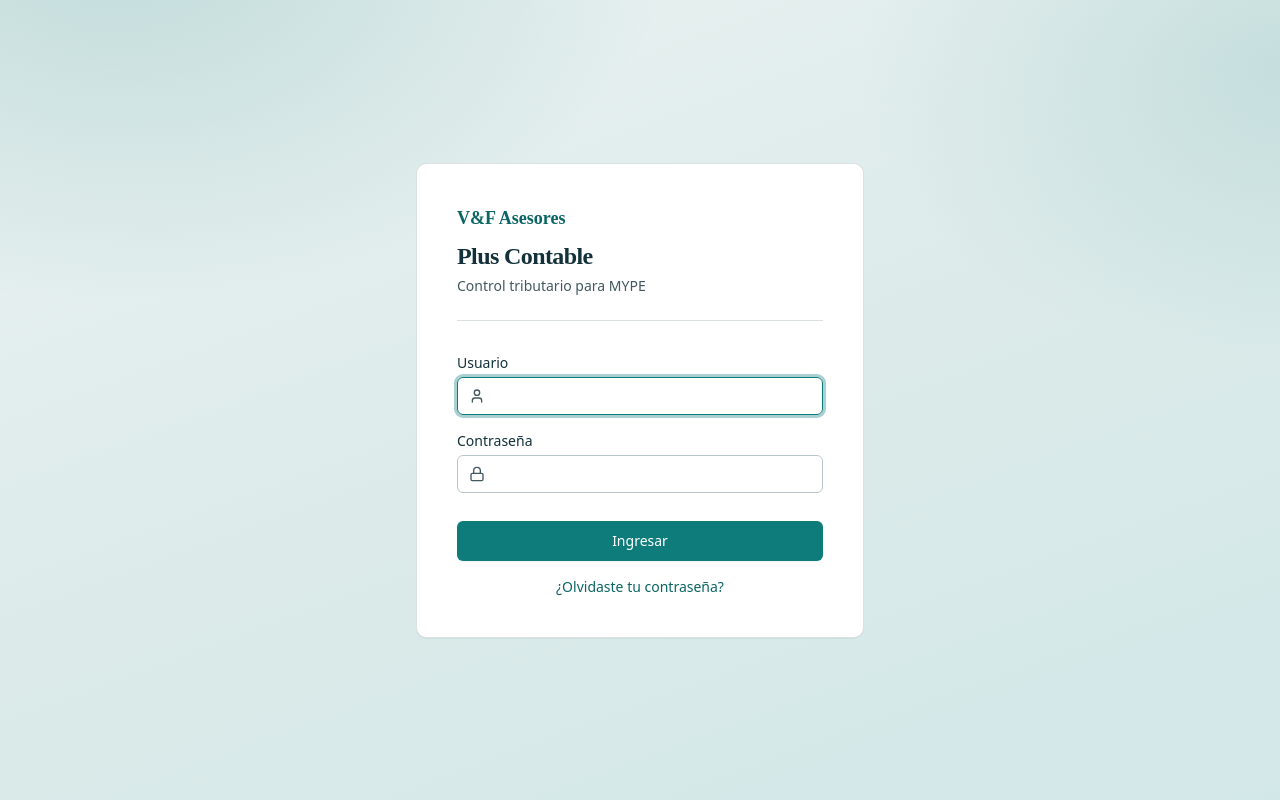
Test: HU-36: sesión y login › muestra el error de credenciales incorrectas sin guardar sesión
Step 1. Type "prueba" into the field labelled "Usuario" → (640, 396), box [457, 376, 823, 414]
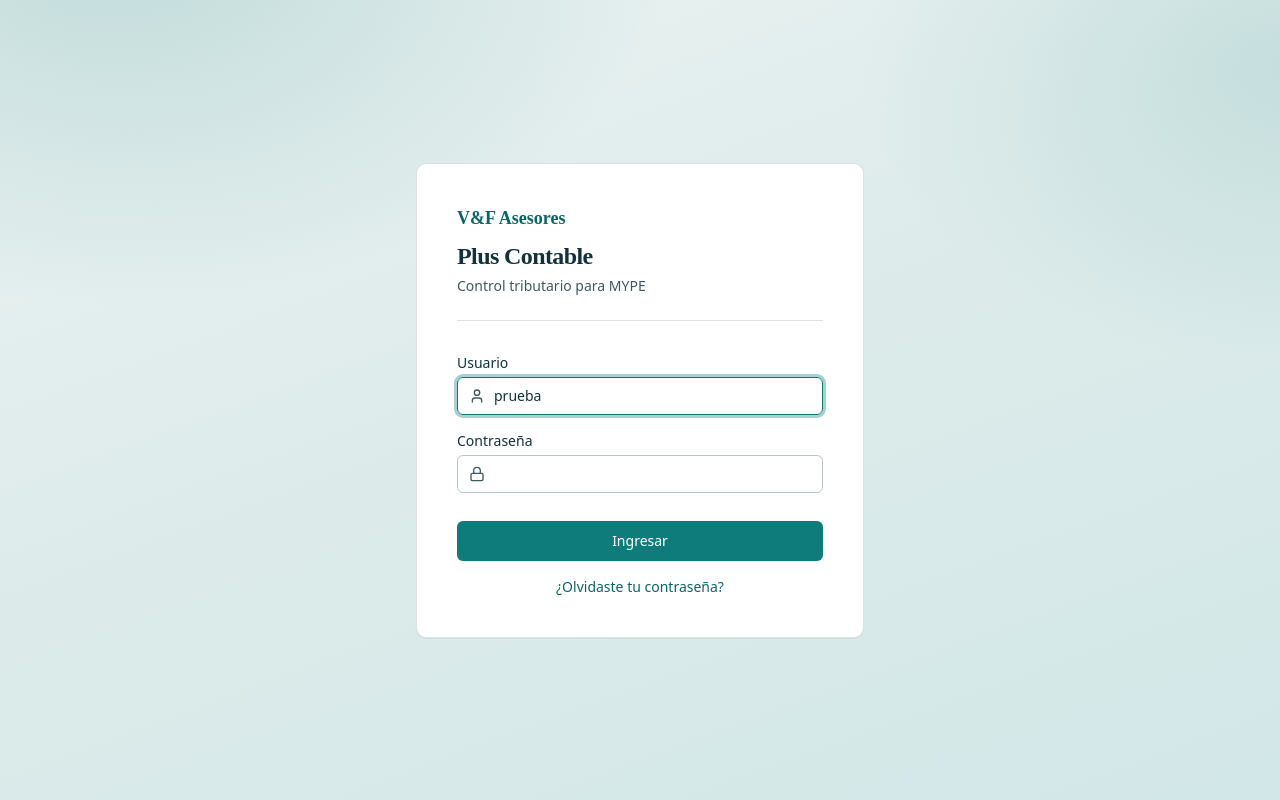
Step 2. Type "incorrecta" into the password field labelled "Contraseña" → (640, 474), box [457, 454, 823, 492]
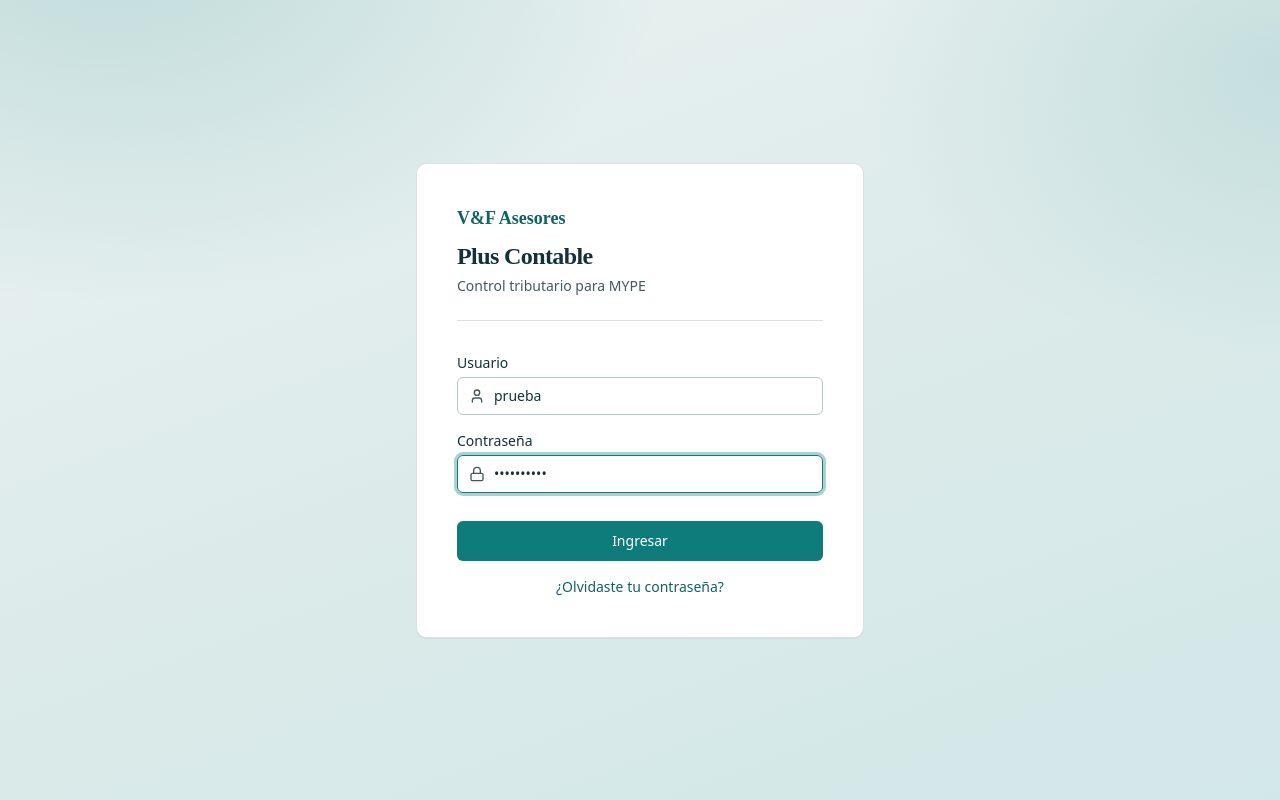
Step 3. Click the button "Ingresar" → (640, 540), box [457, 520, 823, 560]
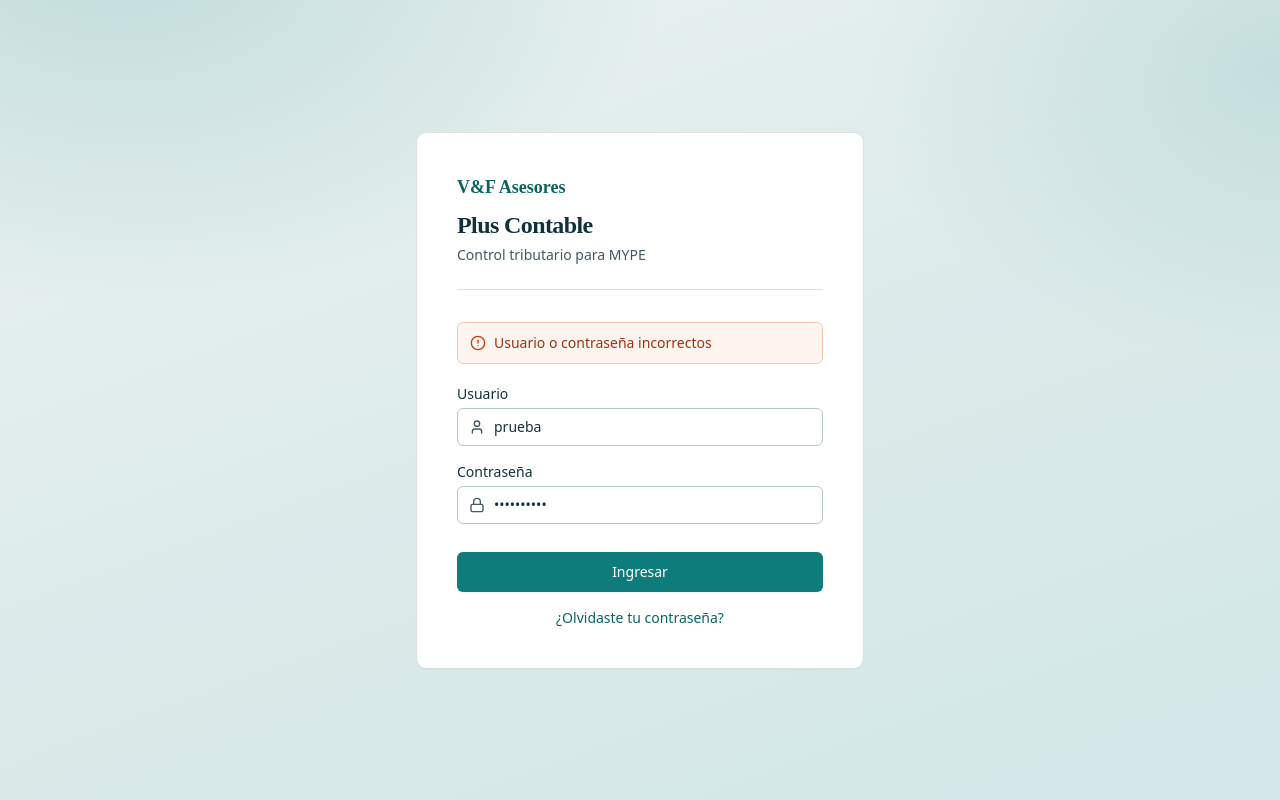
Expected: the text "Usuario o contraseña incorrectos" is shown, [494, 332, 712, 352]
